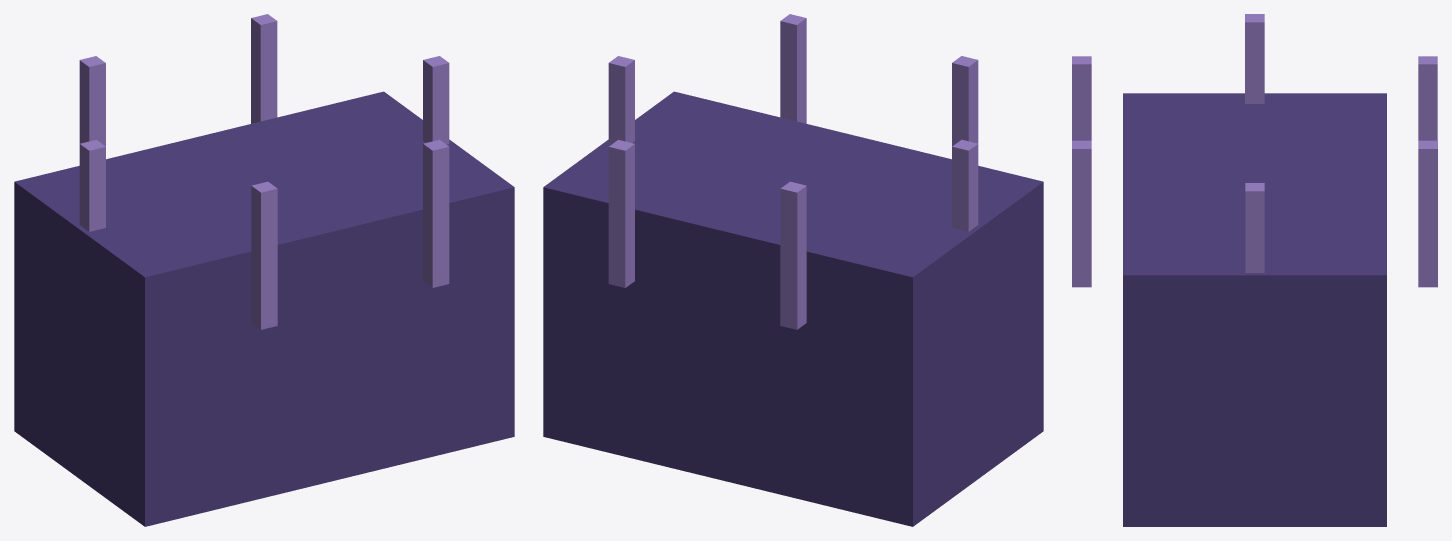
Rendered from boss_void_star.glb.
3 renders of one model, left to right at view 1: azimuth 30°, elevation 25°; view 2: azimuth 150°, elevation 25°; view 3: azimuth 270°, elevation 25°, orthographic.
Visible parts, largest first — view 1: geometry_0; view 2: geometry_0; view 3: geometry_0.
Boxes of the visible parts, x1,y1,x2,y2 form: geometry_0: [14, 14, 514, 526]; geometry_0: [543, 14, 1043, 526]; geometry_0: [1072, 14, 1437, 526].
Size of the model in its own units: 1.55 by 1.32 by 1.32.
